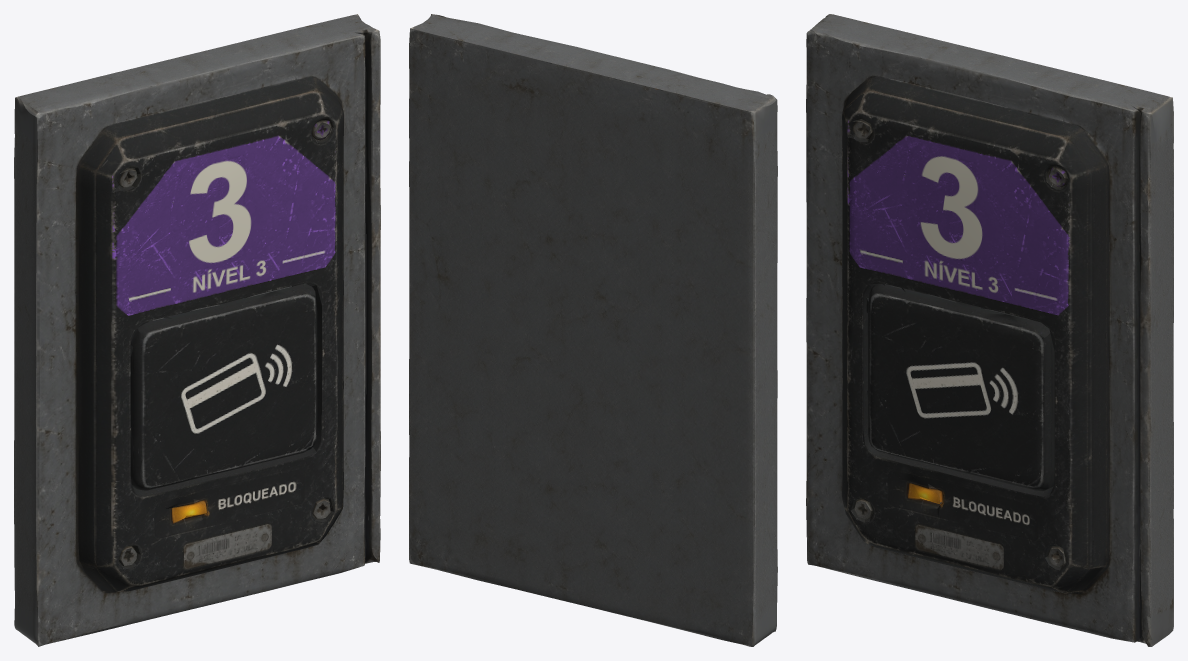
Rendered from fechadura-nivel3-variantes.glb.
3 views of the same model, side by side, from view 1: azimuth 30°, elevation 25°; view 2: azimuth 150°, elevation 25°; view 3: azimuth 330°, elevation 25° (orthographic).
Parts seen in each view (by area): view 1: Fechadura_Nivel_3; view 2: Fechadura_Nivel_3; view 3: Fechadura_Nivel_3.
Boxes of the visible parts, x1,y1,x2,y2 form: Fechadura_Nivel_3: (14,14,380,646); Fechadura_Nivel_3: (409,14,777,646); Fechadura_Nivel_3: (806,14,1173,646).
Bounding box in the file's own units: 1.29 × 1.9 × 0.2985.
1 material, 1 textured.
